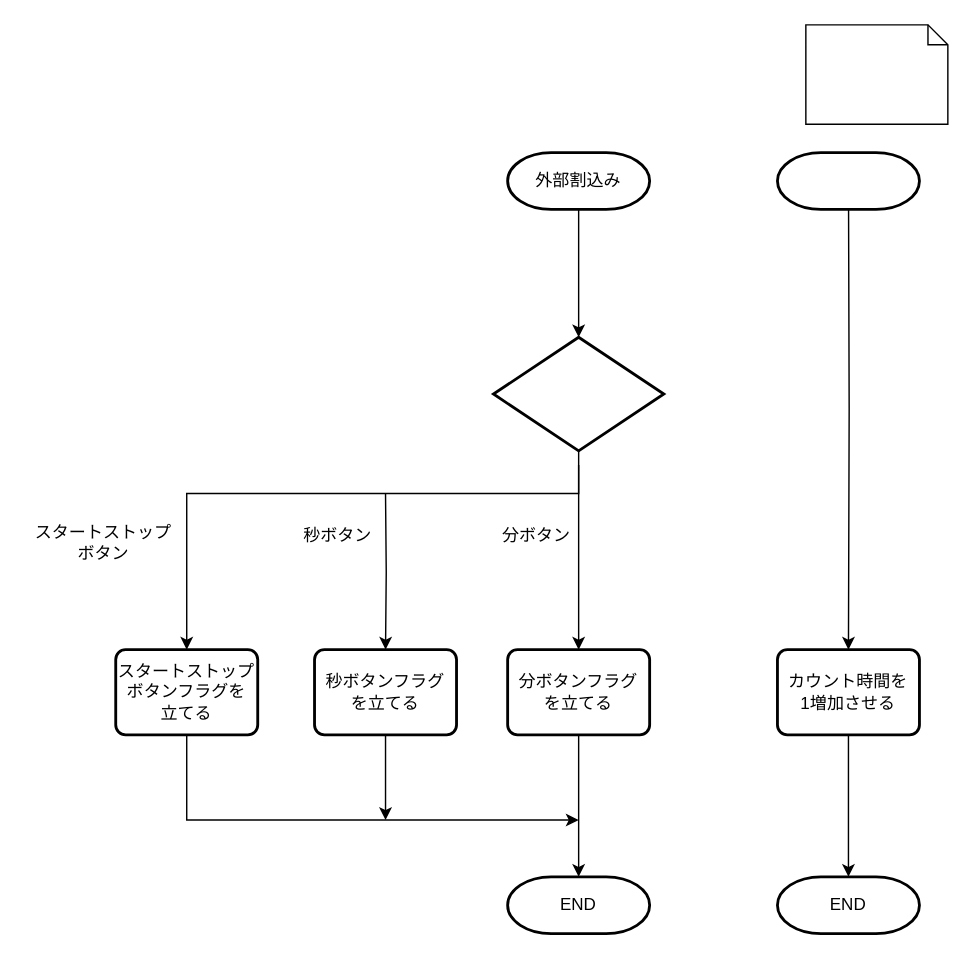
Image size: 973x960. Some labels were removed from this diagram. Each missing label, with the centre of its shape:
"タイマ割込み" goes at (x=847, y=180).
"ボタンの種類" goes at (x=578, y=393).
"割込みの種類 ・状態変化割込み ・タイマ割込み" goes at (x=876, y=73).
